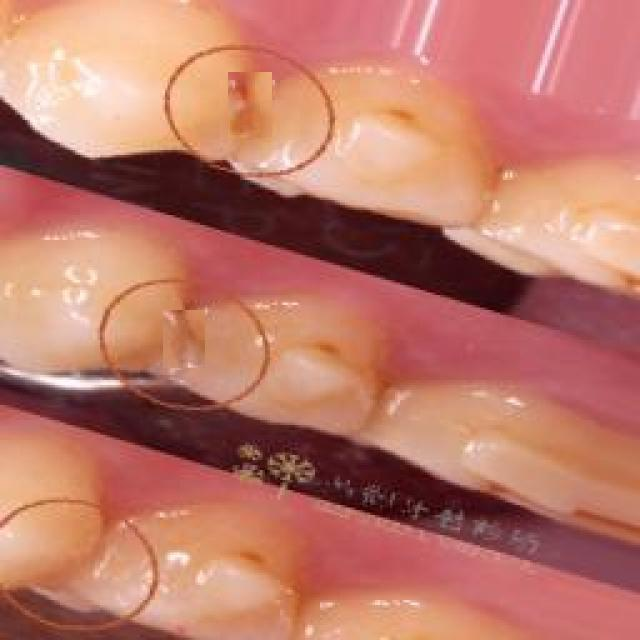caries: (228, 72, 272, 138), (163, 310, 205, 368)
